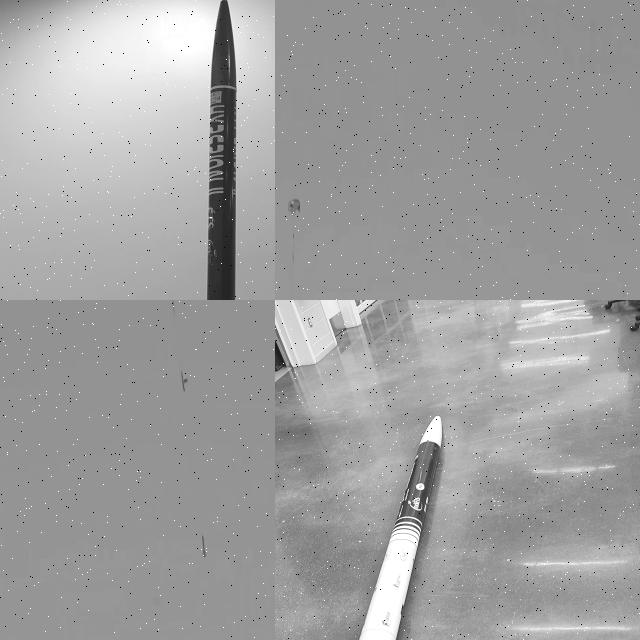Rocket: (358, 415, 442, 640), (207, 0, 236, 300), (202, 536, 205, 558)
